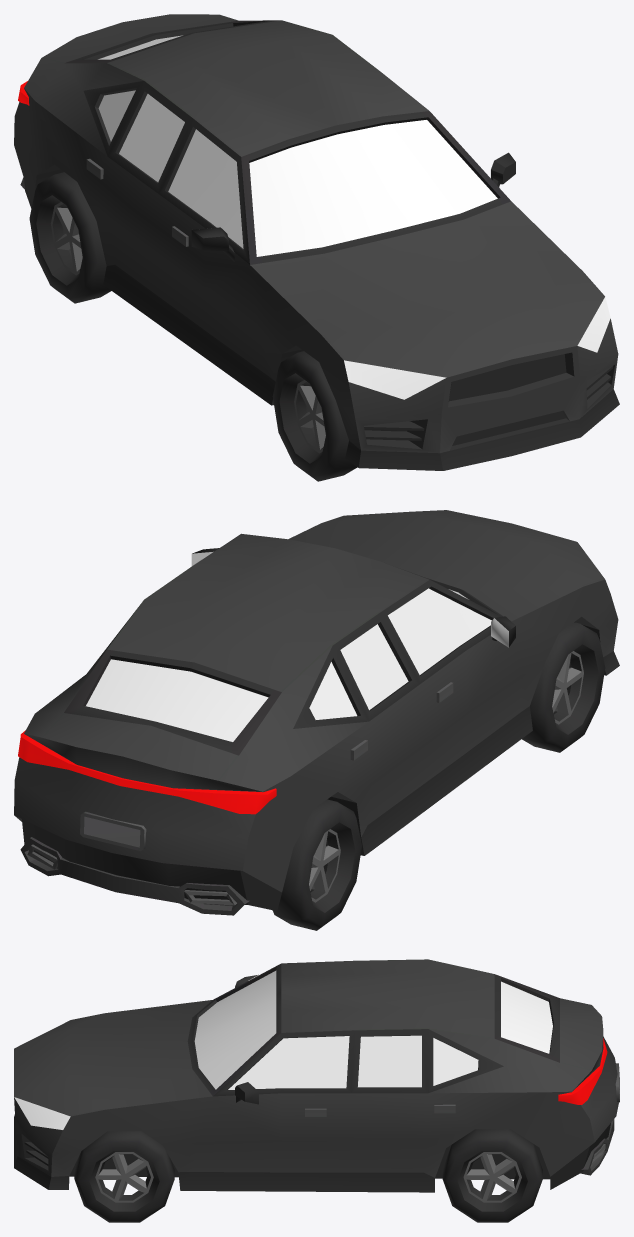
The model's file is coupe.glb.
3 renders of one model, top to bottom at view 1: azimuth 30°, elevation 25°; view 2: azimuth 150°, elevation 25°; view 3: azimuth 270°, elevation 25°, orthographic. The views are drawn at different scales.
Visible parts, largest first — view 1: coupe; view 2: coupe; view 3: coupe.
Part boxes in pixels (x1=…): coupe: x1=14, y1=14, x2=619, y2=481; coupe: x1=14, y1=510, x2=619, y2=930; coupe: x1=14, y1=959, x2=619, y2=1222.
Size of the model in its own units: 2.35 by 1.74 by 5.14.
3 materials, 2 textured.
